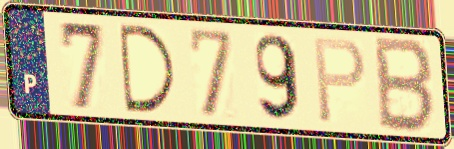7: (56, 17, 108, 112), (186, 25, 236, 121)
9: (253, 32, 301, 124)
B: (373, 33, 437, 137)
D: (115, 21, 180, 116)
P: (311, 36, 369, 127)
